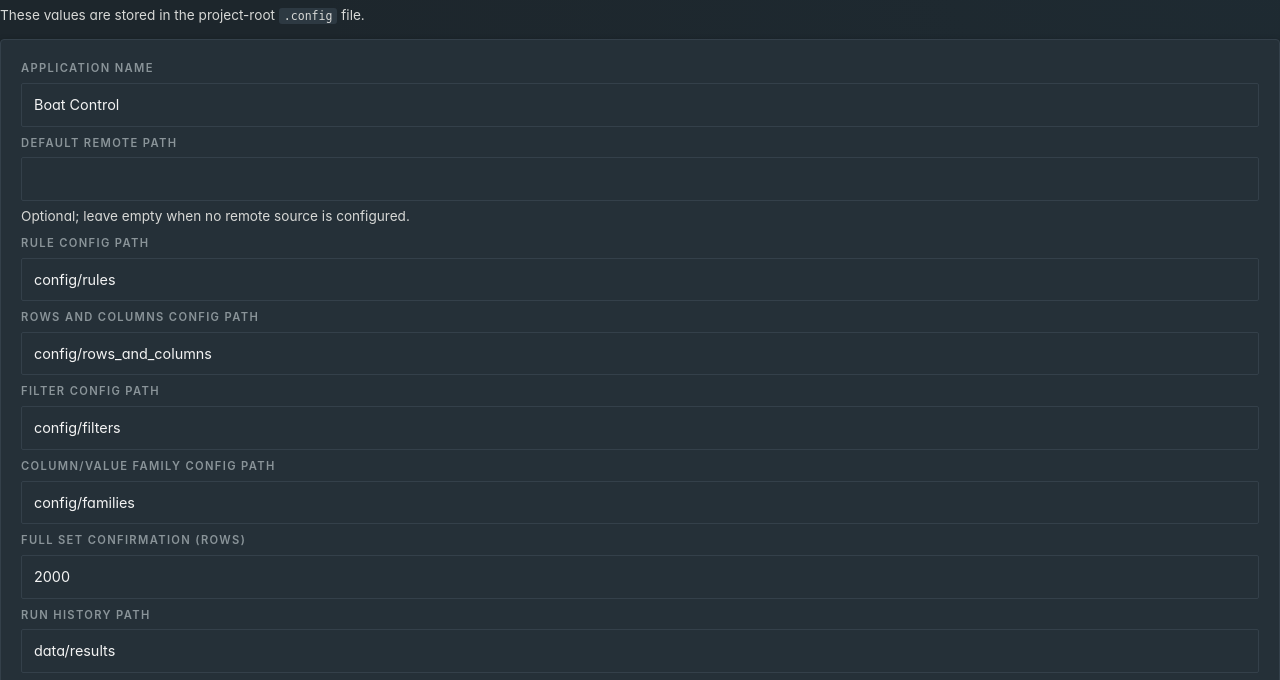
it: SettingsPage › enables Save after the user edits a field and shows an unsaved-changes hint
This screenshot has width=1280, height=680.
Replace the text in the field labelled "Application name" with "My Comparator" at x=640, y=105, box [21,83,1259,127]
(page scrolled)
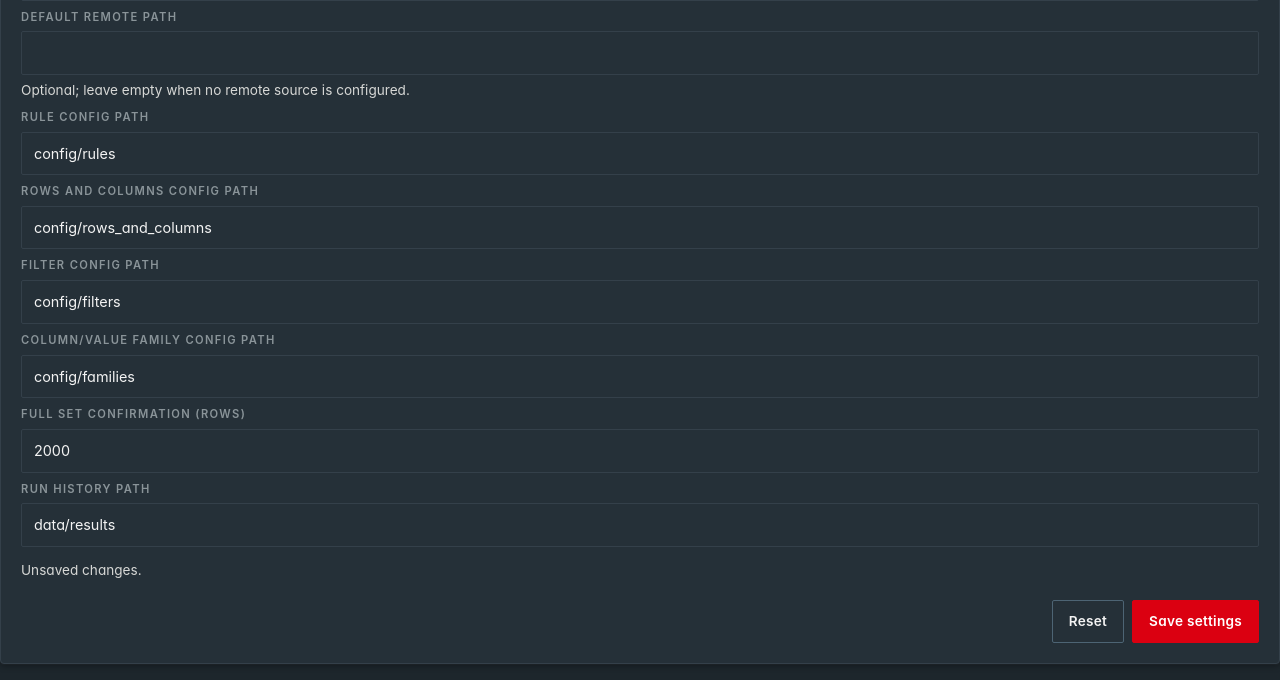
Check: the button "Save settings" is enabled, box [1132,600,1259,643]
Check: the text "Unsaved changes." is shown, box [21,562,142,578]
